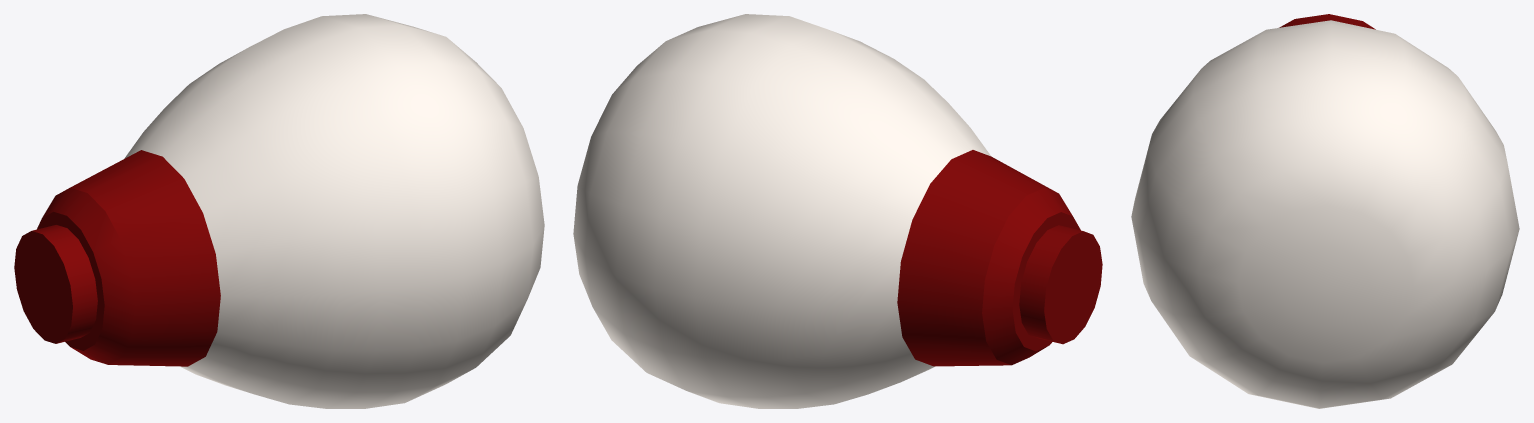
File: F_LAMP_01.fbx
3 renders of one model, left to right at view 1: azimuth 30°, elevation 25°; view 2: azimuth 150°, elevation 25°; view 3: azimuth 270°, elevation 25°, orthographic. The views are drawn at different scales.
Visible parts, largest first — view 1: Sphere; view 2: Sphere; view 3: Sphere.
Part boxes in pixels (x1,y1,x2,y2): Sphere: (14, 14, 544, 408); Sphere: (573, 14, 1102, 408); Sphere: (1131, 14, 1519, 408).
Bounding box in the file's own units: 137 × 102 × 104.
